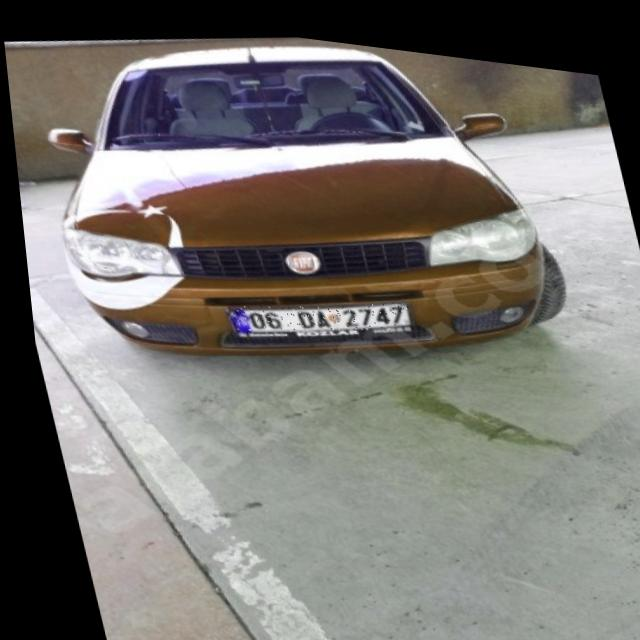license_plate: (219, 276, 411, 345)
